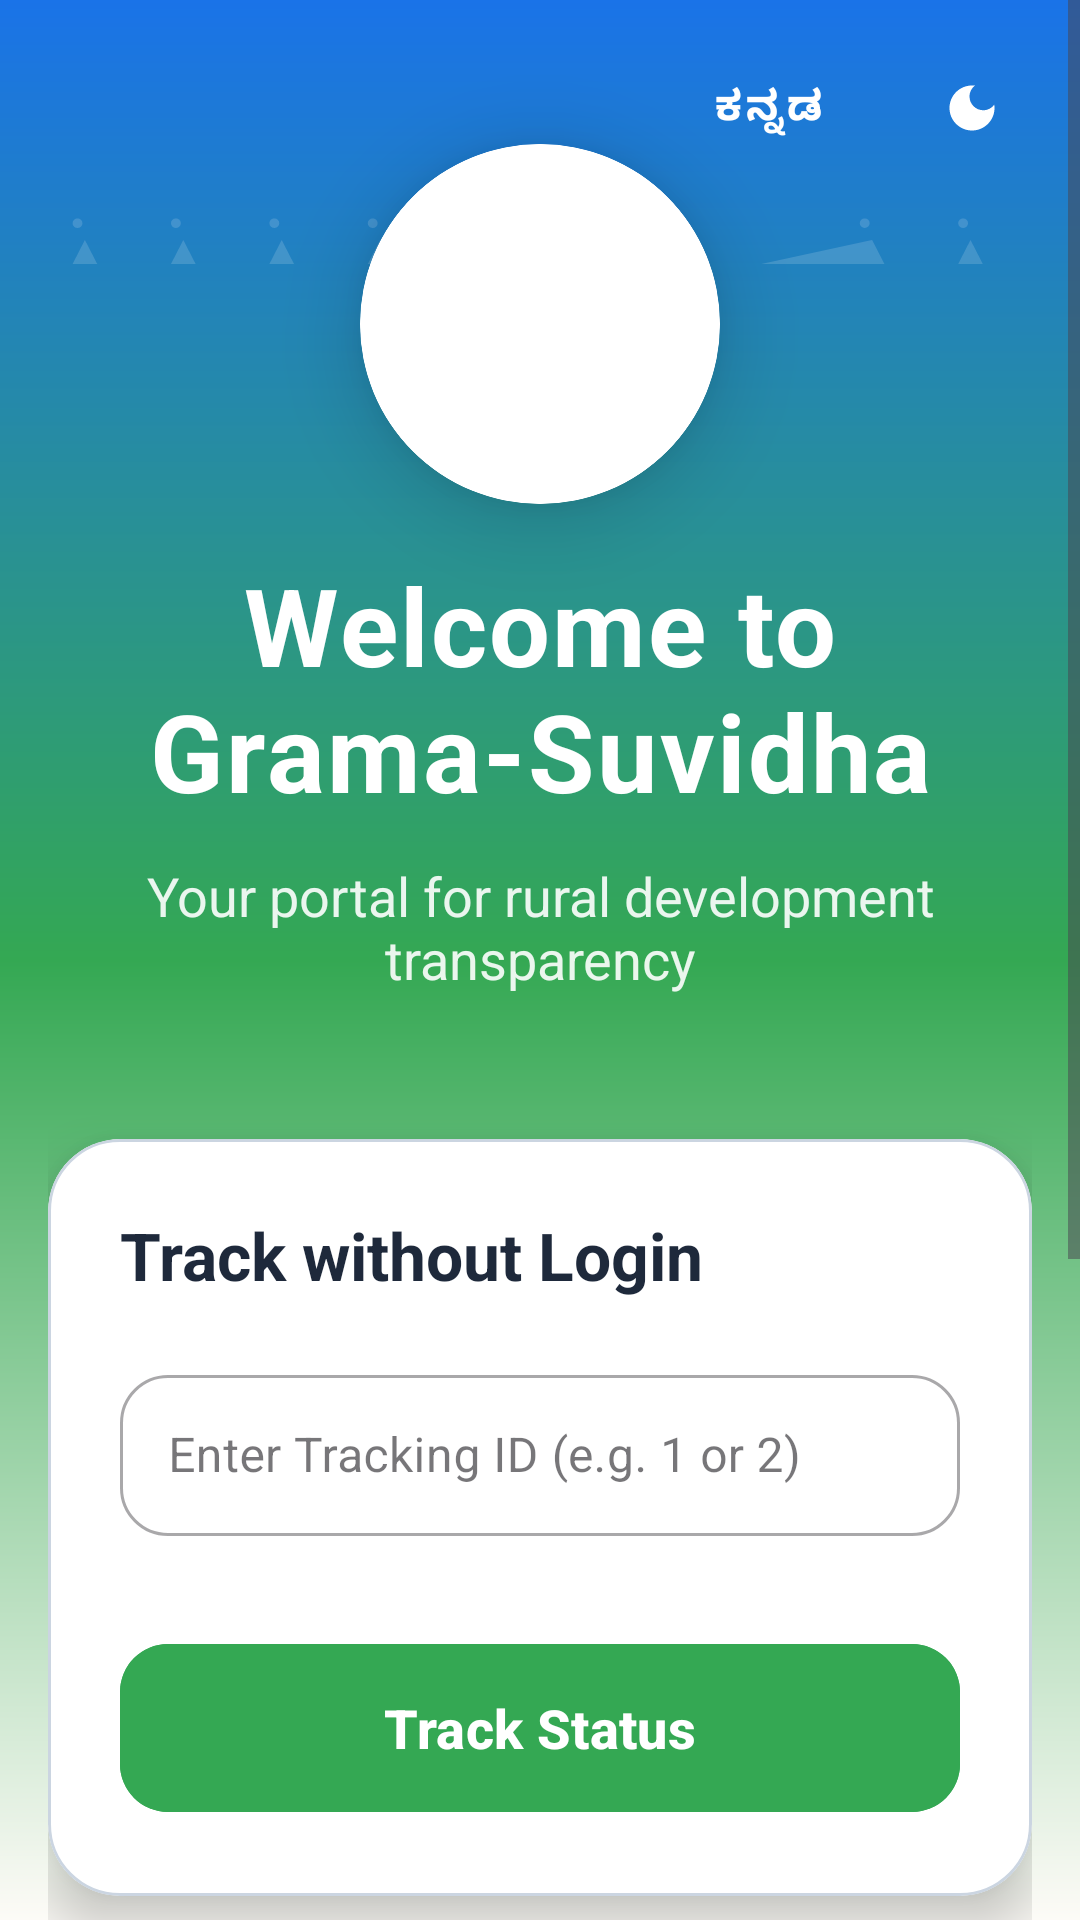

Locate icon controls on the screen. Image size 1080×1920, boxes as (x1, y1, x2, y2).
mode: (949, 85, 995, 131)
